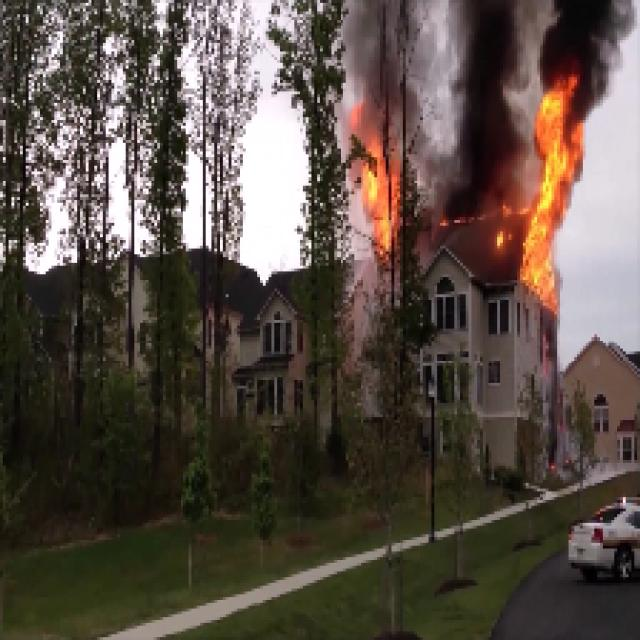fire: (528, 104, 570, 304)
smoke: (454, 6, 514, 210), (548, 2, 601, 83)
